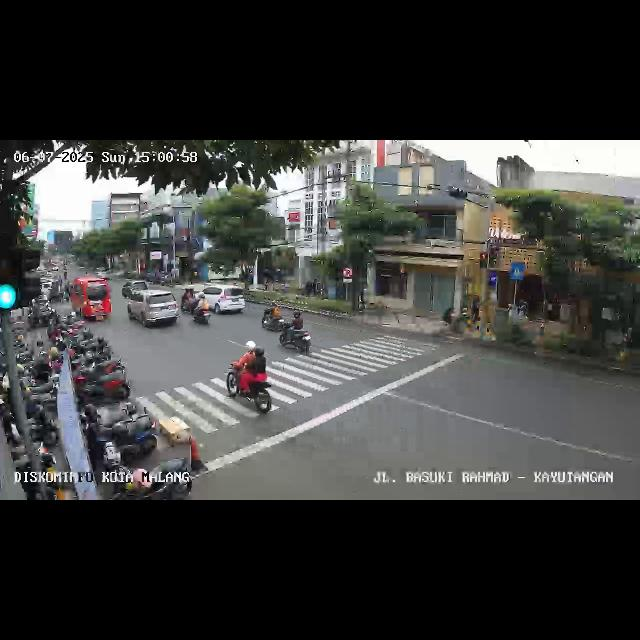car: (126, 288, 180, 329), (68, 276, 112, 324), (202, 286, 246, 316)
motorcycle: (225, 344, 275, 418), (278, 311, 312, 355), (191, 291, 211, 327), (260, 300, 280, 330)
